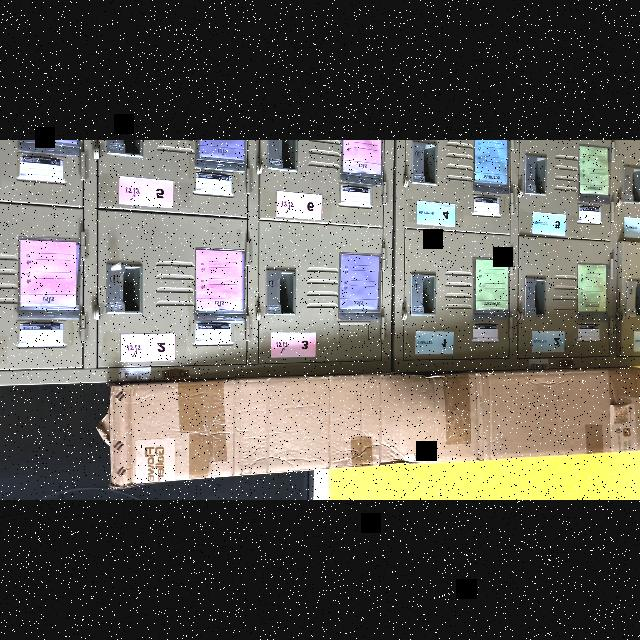cardboard_bowl: (110, 360, 640, 496)
